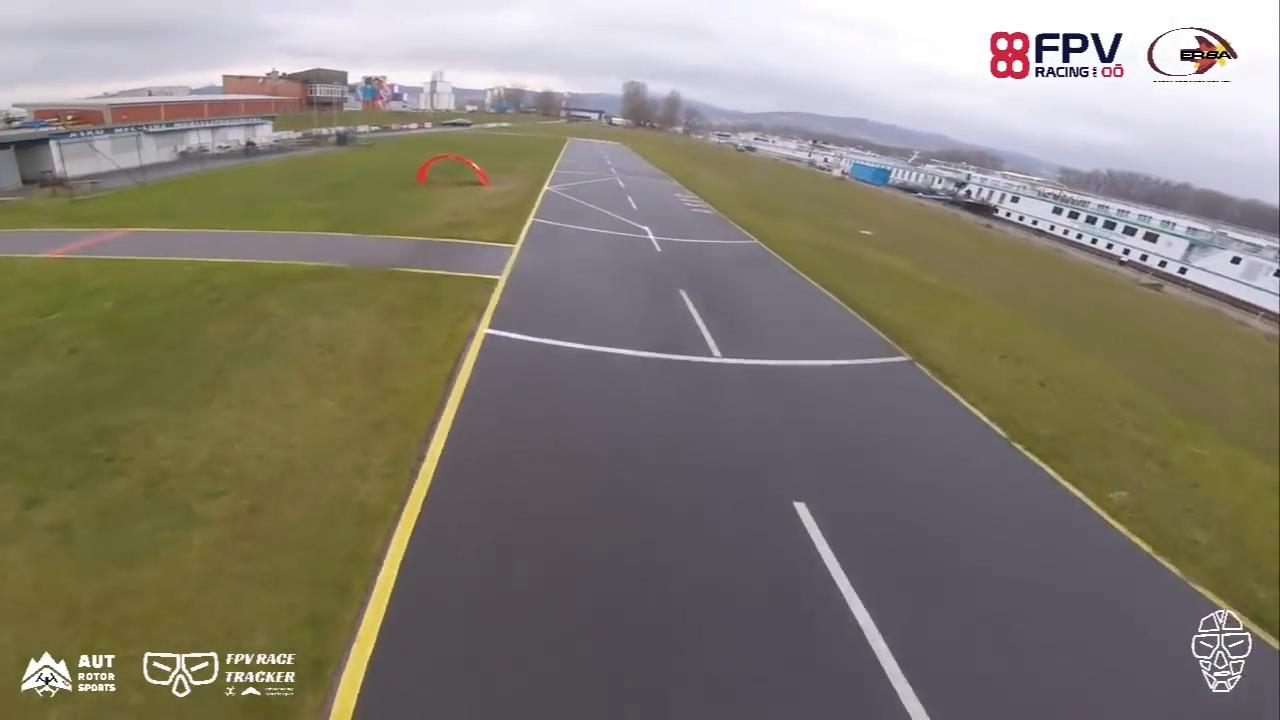gate: (418, 152, 488, 190)
